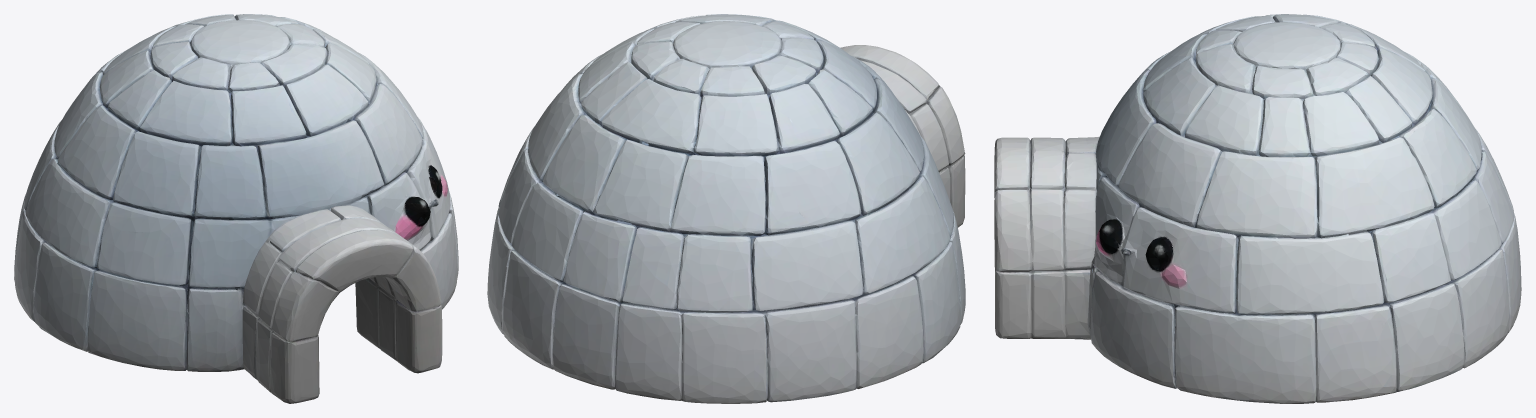
File: igloo.glb
The picture shows the model from 3 angles, left to right: view 1: azimuth 30°, elevation 25°; view 2: azimuth 150°, elevation 25°; view 3: azimuth 270°, elevation 25°; orthographic projection. The views are drawn at different scales.
Visible parts, largest first — view 1: geometry_0; view 2: geometry_0; view 3: geometry_0.
Boxes of the visible parts, x1,y1,x2,y2 form: geometry_0: [14, 14, 458, 403]; geometry_0: [487, 14, 965, 403]; geometry_0: [994, 14, 1521, 403].
Size of the model in its own units: 0.911 by 0.5557 by 0.9967.
1 material, 1 textured.
